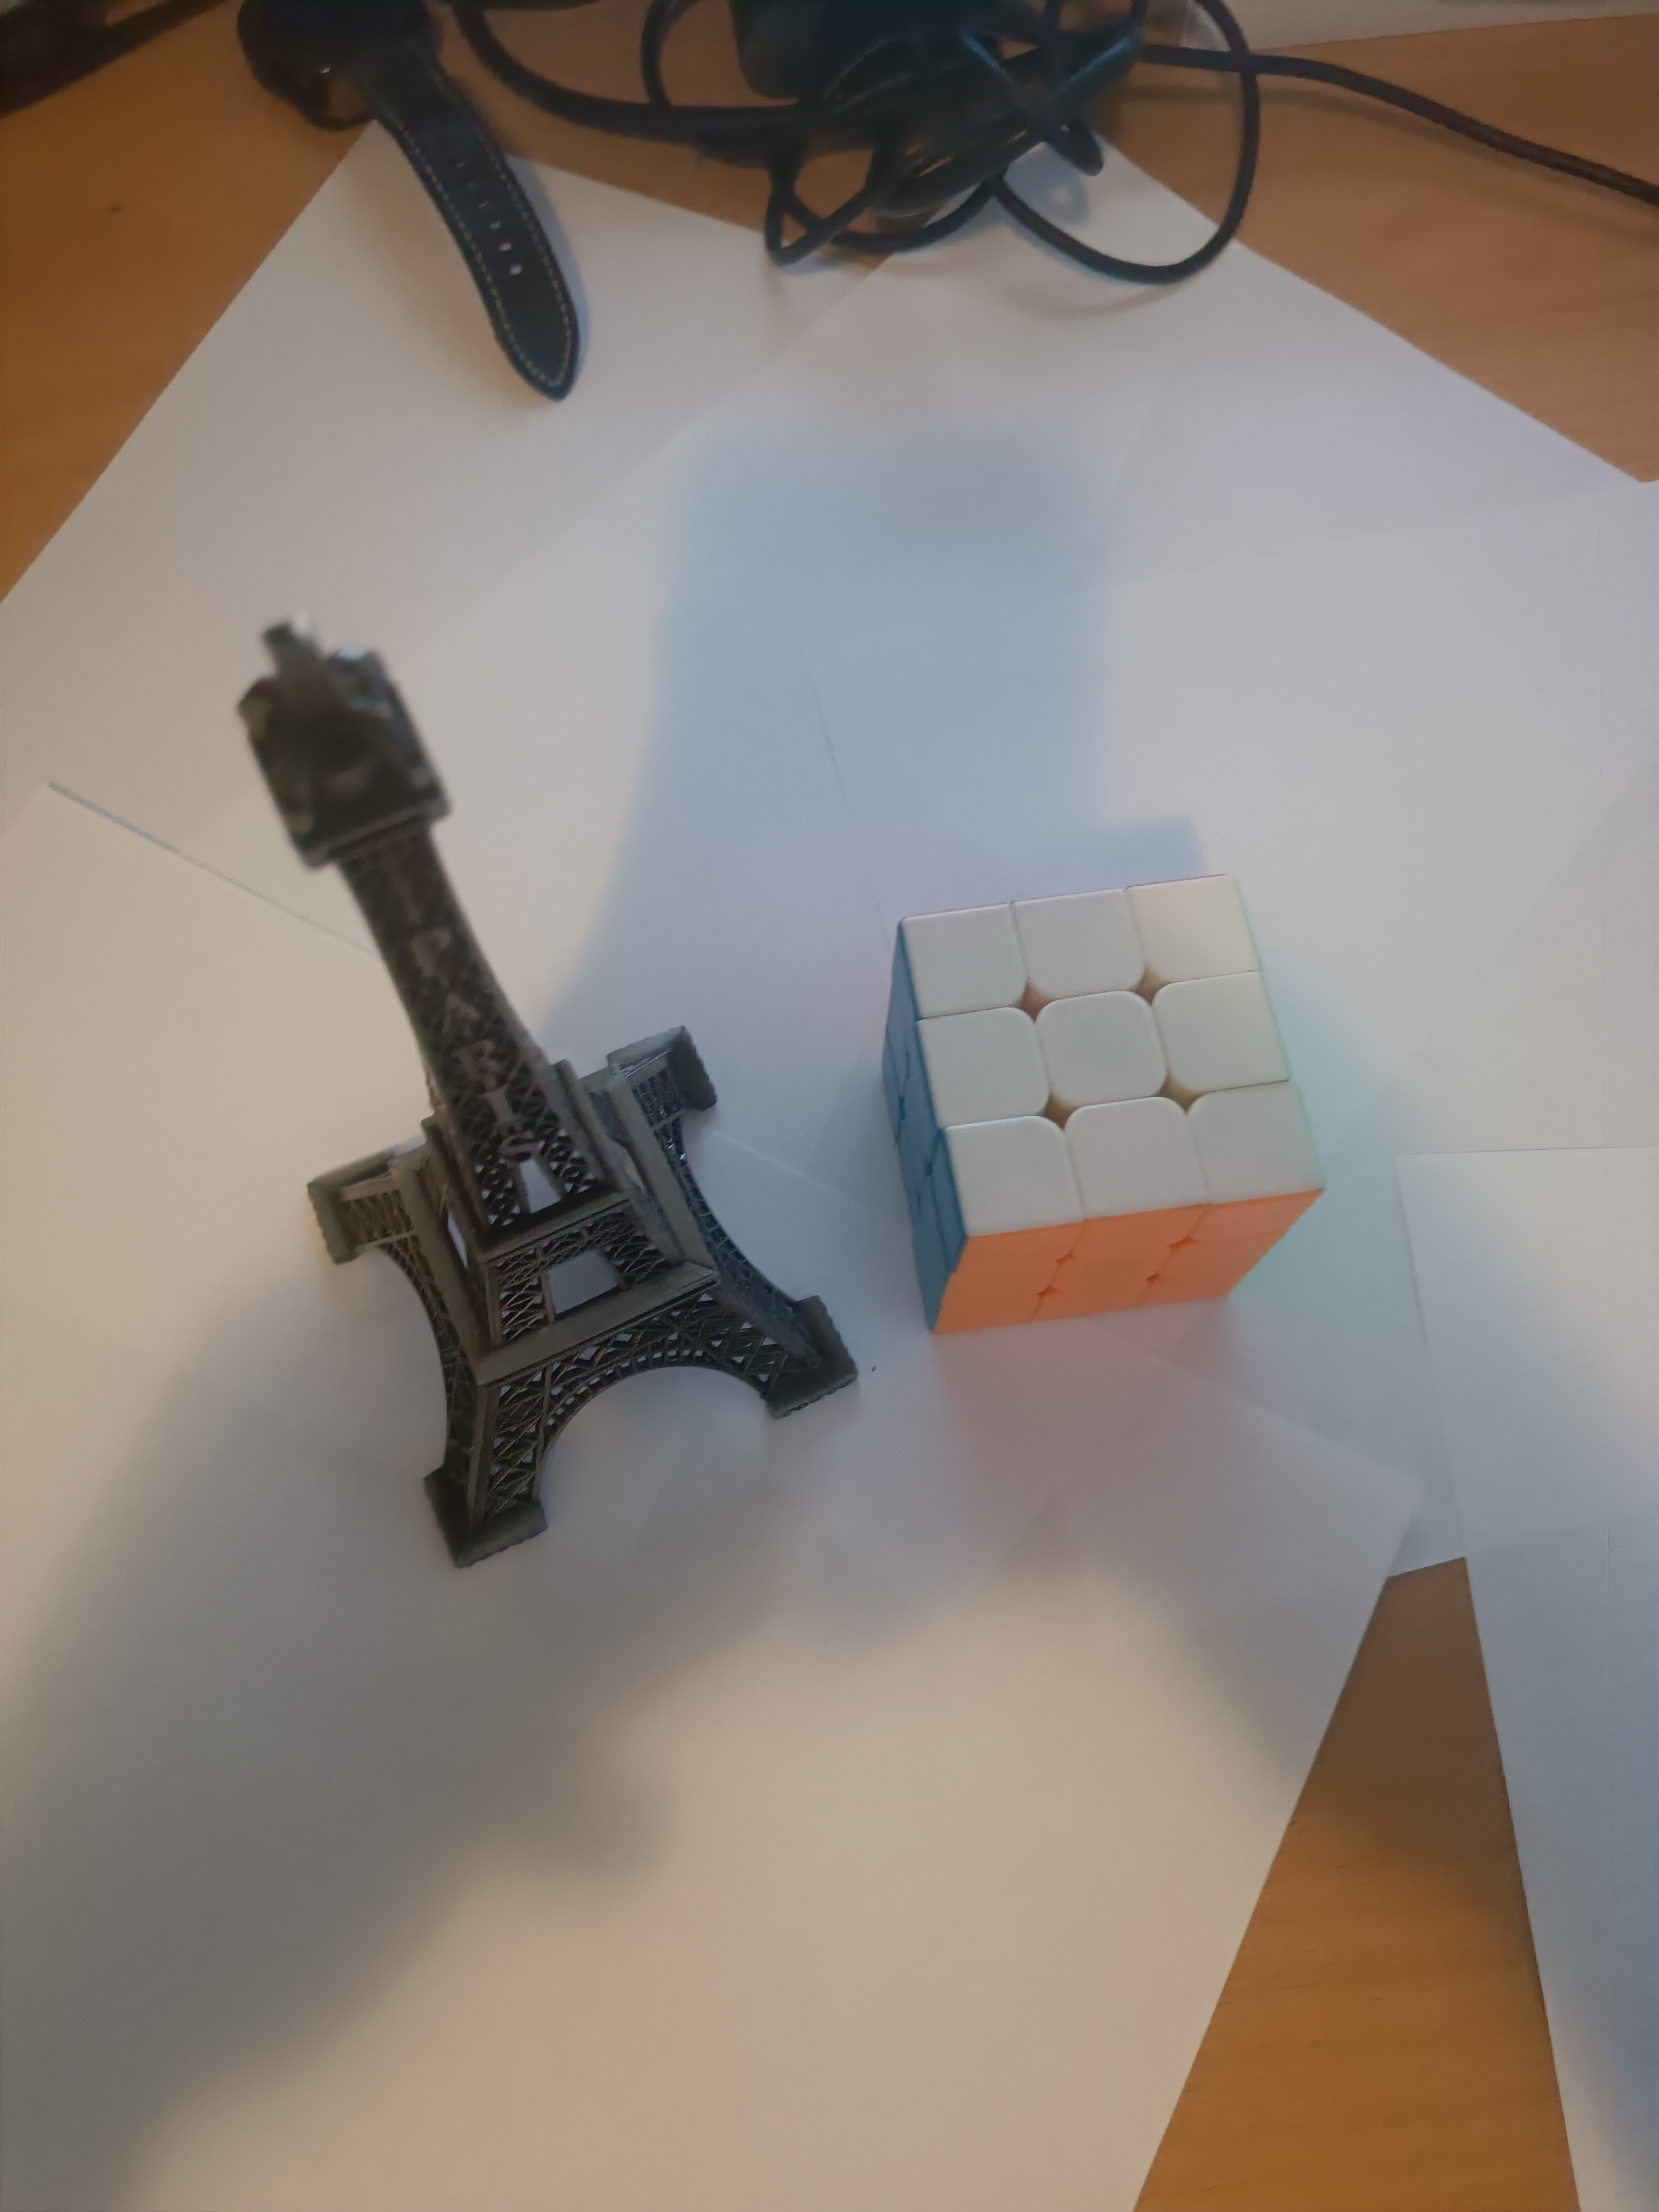Eiffel Tower: (202, 583, 864, 1587)
Rubiks Cube: (875, 864, 1344, 1364)
